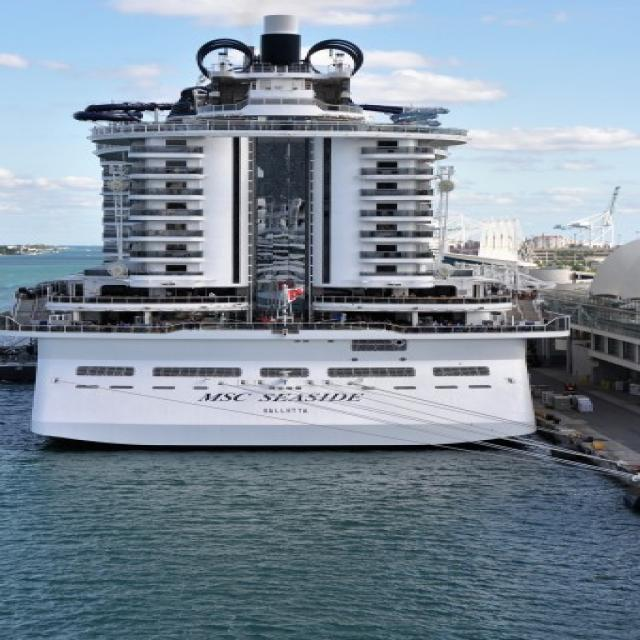cruises: (1, 10, 573, 457)
